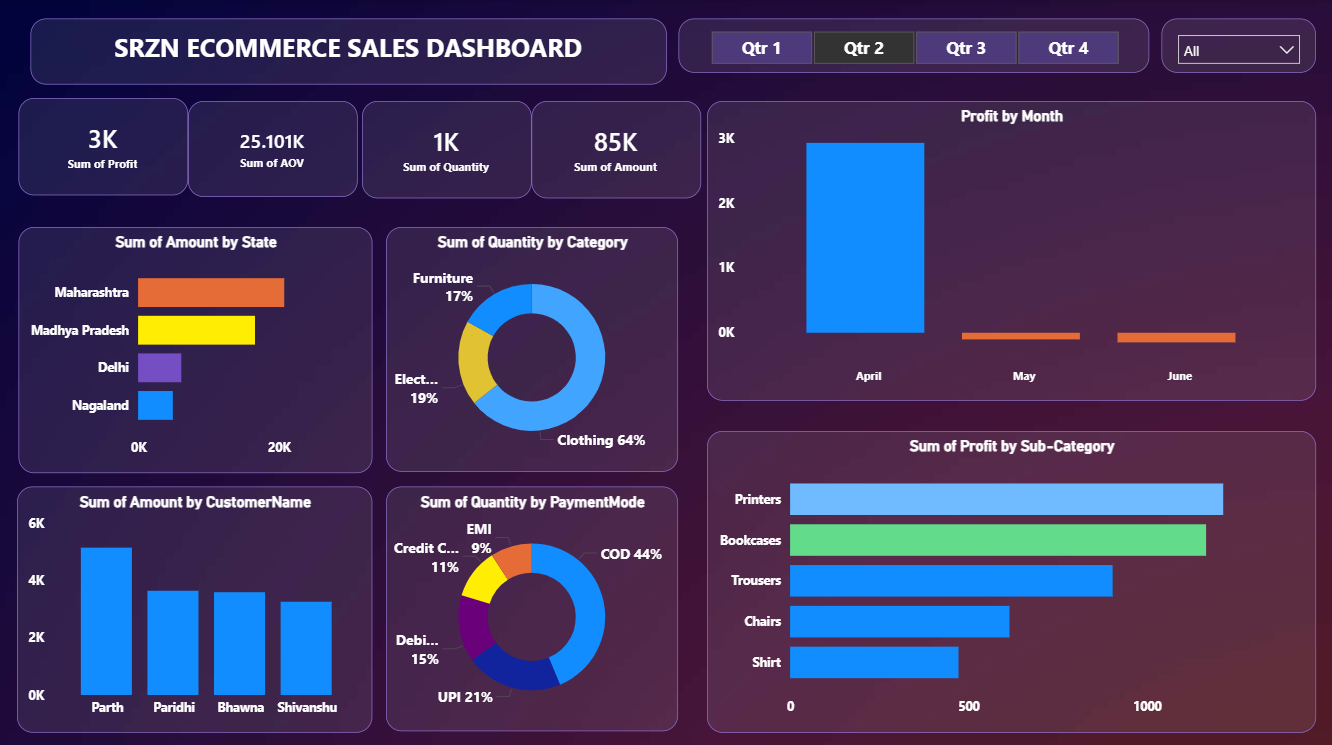

What the dashboard file says about the page in this screenshot:
{"tool":"powerbi","page":{"name":"Page 1","canvas":[1280,720],"ordinal":0},"visuals":[{"type":"textbox","box":[30.2,18.7,609.8,63.3],"z":0},{"type":"columnChart","title":"Profit by Month","fields":{"Category":["Orders.Order Date.Variation.Date Hierarchy.Month"],"Y":["Sum(Details.Profit)"]},"box":[678.8,97.8,583.9,287.6],"z":1000},{"type":"barChart","fields":{"Category":["Details.Sub-Category"],"Y":["Sum(Details.Profit)"]},"box":[678.8,414.2,583.9,289.1],"z":2000},{"type":"donutChart","fields":{"Category":["Details.Category"],"Y":["Sum(Details.Quantity)"]},"box":[371,218,280.1,234.7],"z":3000},{"type":"donutChart","fields":{"Y":["Sum(Details.Quantity)"],"Category":["Details.PaymentMode"]},"box":[371,467.9,280.1,234.7],"z":4000},{"type":"cardVisual","fields":{"Data":["Sum(Details.AOV)"]},"box":[181.2,97.8,162.5,92],"z":5000},{"type":"cardVisual","fields":{"Data":["Sum(Details.Quantity)"]},"box":[348,97.8,162.5,93.5],"z":6000},{"type":"cardVisual","fields":{"Data":["Sum(Details.Profit)"]},"box":[18.7,94.9,162.5,93.5],"z":7000},{"type":"cardVisual","fields":{"Data":["Sum(Details.Amount)"]},"box":[510.5,97.8,162.5,93.5],"z":8000},{"type":"barChart","fields":{"Category":["Orders.State"],"Y":["Sum(Details.Amount)"]},"box":[18.7,218.6,339.4,235.9],"z":9000},{"type":"columnChart","fields":{"Category":["Orders.CustomerName"],"Y":["Sum(Details.Amount)"]},"box":[16.7,467.9,340.7,236.2],"z":10000},{"type":"slicer","fields":{"Values":["Orders.Order Date.Variation.Date Hierarchy.Quarter"]},"box":[651.5,18.7,451.6,51.8],"z":11000},{"type":"slicer","fields":{"Values":["Orders.State"]},"box":[1114.5,18.7,148.1,51.8],"z":12000}]}

Visuals, with their boxes in screenshot pixels (x1, y1, x2, y2), scaled from the page's 1280x720 canvas onto the 1332x745 screenshot:
textbox: pyautogui.locateOnScreen(31, 19, 666, 85)
"Profit by Month" columnChart: pyautogui.locateOnScreen(706, 101, 1314, 399)
barChart - Details.Sub-Category x Sum(Details.Profit): pyautogui.locateOnScreen(706, 429, 1314, 728)
donutChart - Details.Category x Sum(Details.Quantity): pyautogui.locateOnScreen(386, 226, 678, 468)
donutChart - Sum(Details.Quantity) x Details.PaymentMode: pyautogui.locateOnScreen(386, 484, 678, 727)
cardVisual - Sum(Details.AOV): pyautogui.locateOnScreen(189, 101, 358, 196)
cardVisual - Sum(Details.Quantity): pyautogui.locateOnScreen(362, 101, 531, 198)
cardVisual - Sum(Details.Profit): pyautogui.locateOnScreen(19, 98, 189, 195)
cardVisual - Sum(Details.Amount): pyautogui.locateOnScreen(531, 101, 700, 198)
barChart - Orders.State x Sum(Details.Amount): pyautogui.locateOnScreen(19, 226, 373, 470)
columnChart - Orders.CustomerName x Sum(Details.Amount): pyautogui.locateOnScreen(17, 484, 372, 729)
slicer - Orders.Order Date.Variation.Date Hierarchy.Quarter: pyautogui.locateOnScreen(678, 19, 1148, 73)
slicer - Orders.State: pyautogui.locateOnScreen(1160, 19, 1314, 73)
